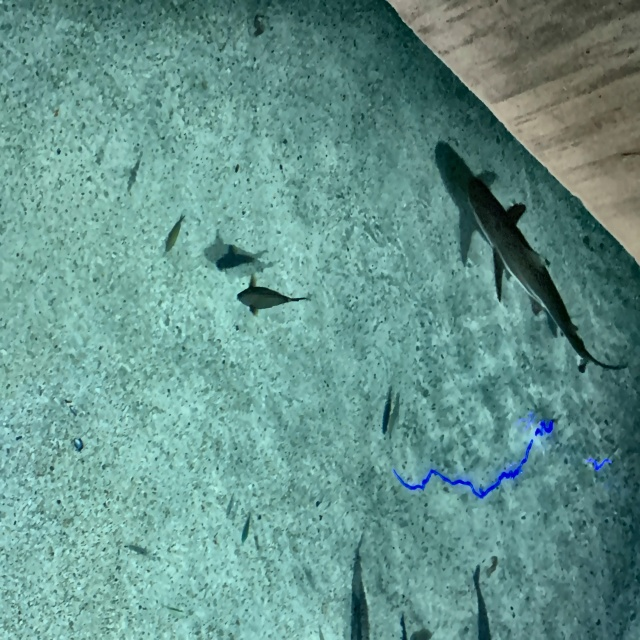fish: (237, 285, 311, 320), (347, 539, 372, 639), (467, 566, 496, 639), (213, 246, 262, 274), (377, 386, 398, 444), (160, 214, 187, 255), (122, 150, 142, 194), (238, 511, 254, 548), (398, 611, 408, 639)
shark: (464, 169, 588, 356)
